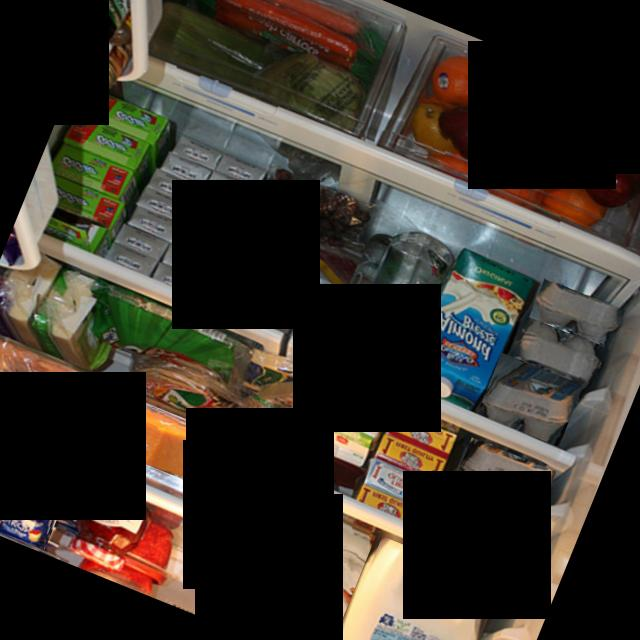cheese: (106, 396, 222, 486)
eggs: (425, 480, 539, 568), (477, 352, 582, 446), (452, 437, 556, 518), (514, 315, 610, 390), (528, 277, 624, 349)
lemon: (544, 96, 620, 164), (404, 96, 461, 154)
milk: (233, 496, 377, 640), (328, 536, 501, 640), (206, 498, 290, 634)
yogurt: (0, 447, 77, 508), (0, 478, 61, 549), (0, 452, 36, 518), (0, 419, 39, 478), (0, 474, 28, 527)
